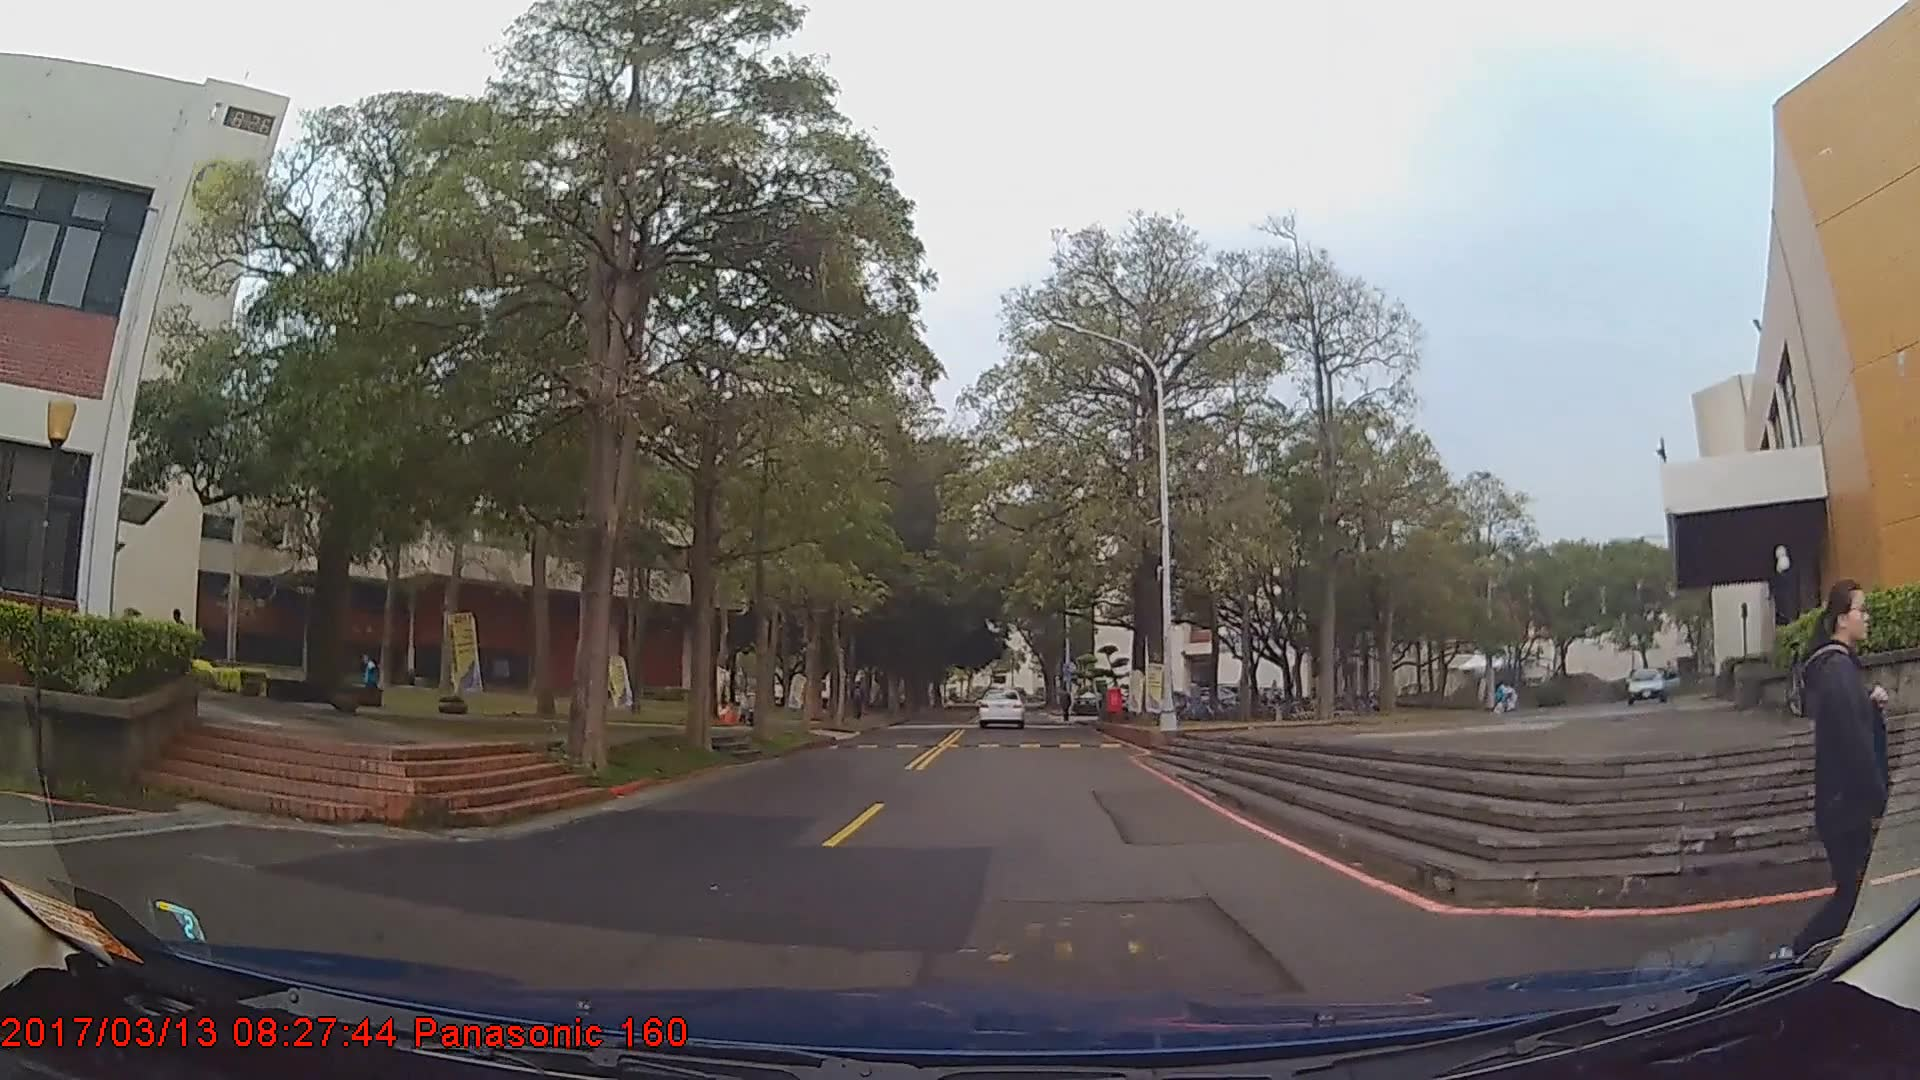pedestrian: (1755, 564, 1919, 997)
vehicle: (1620, 664, 1684, 704), (977, 685, 1025, 728)
